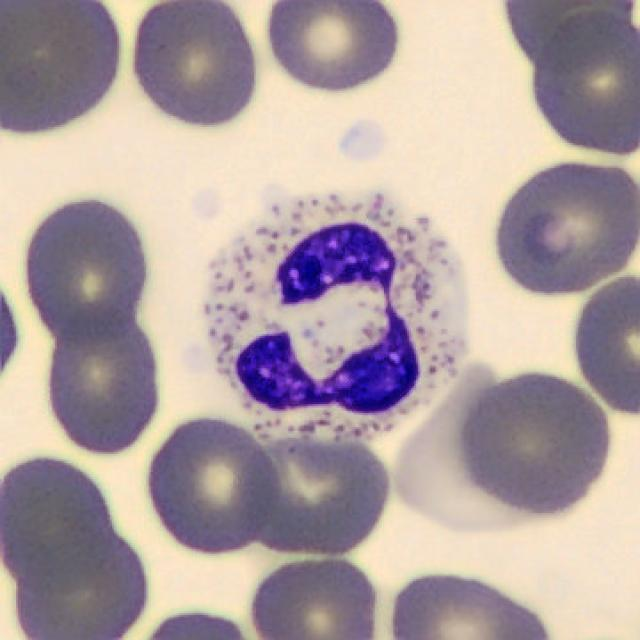Neutrofilo segmentado: (204, 195, 464, 436)
